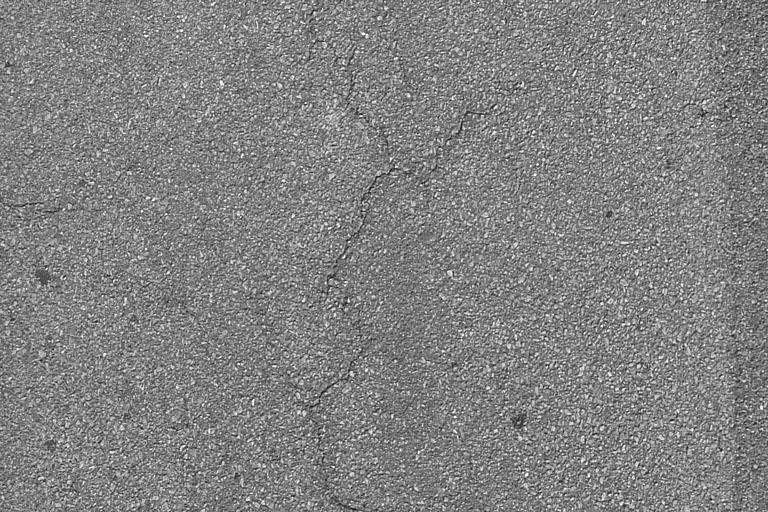crack: (300, 7, 478, 512)
